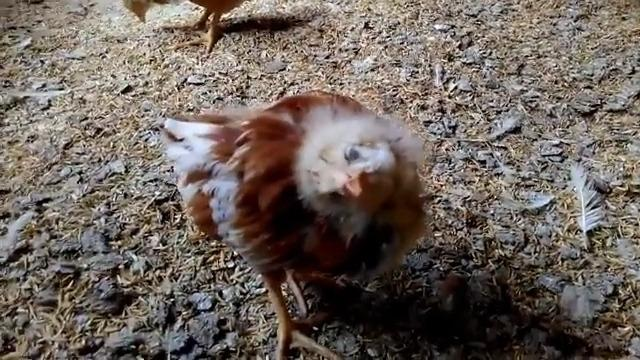AbNormal: (158, 94, 431, 316)
